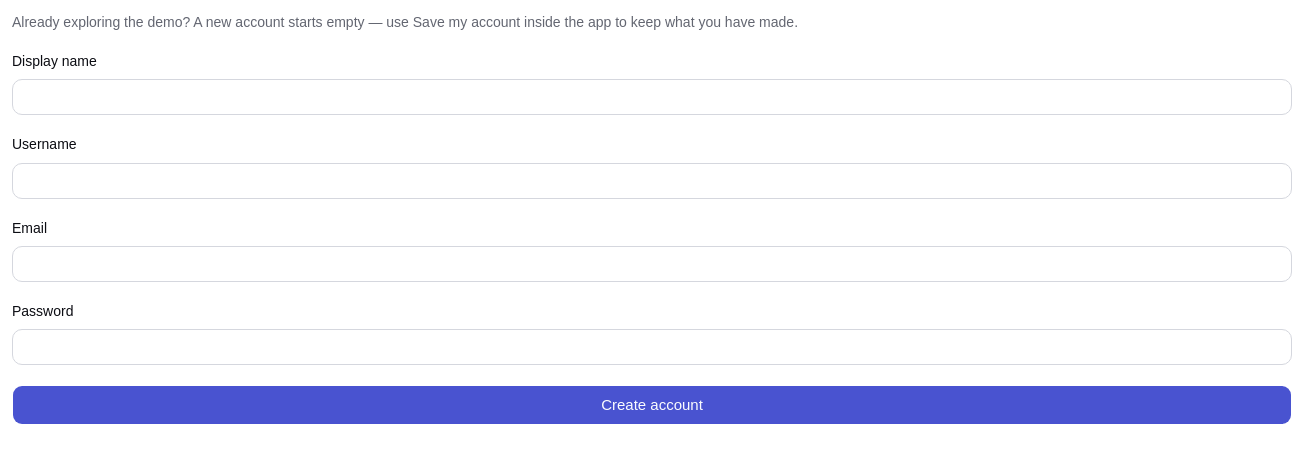
Test: SignUpForm › rejects a reserved username with the shared schema's message
Type "Ada" into the field labelled "Display name" at [652, 97], box x1=12 y1=79 x2=1292 y2=115
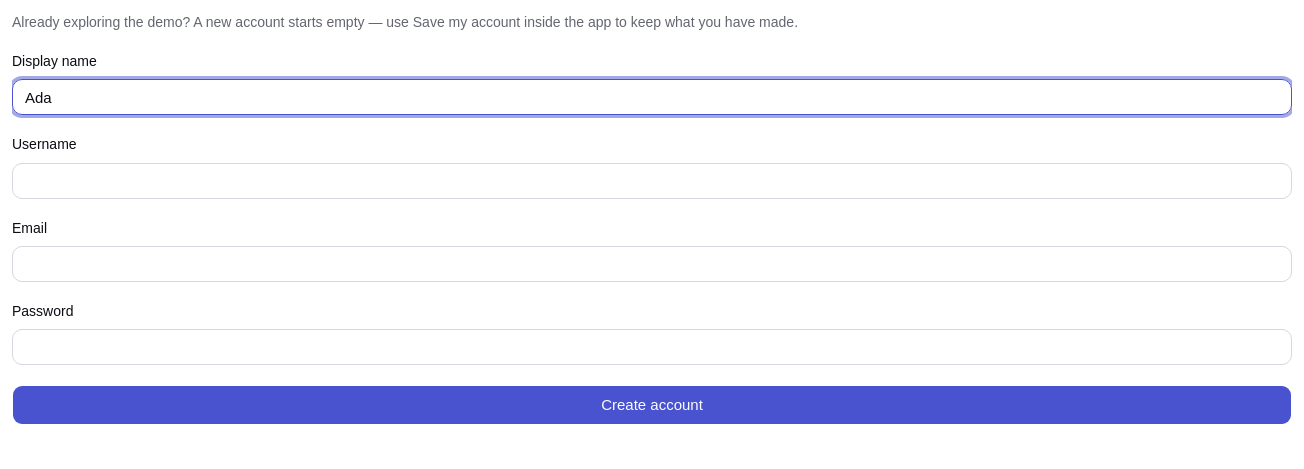
Type "guest-1234" into the field labelled "Username" at [652, 180], box x1=12 y1=162 x2=1292 y2=198
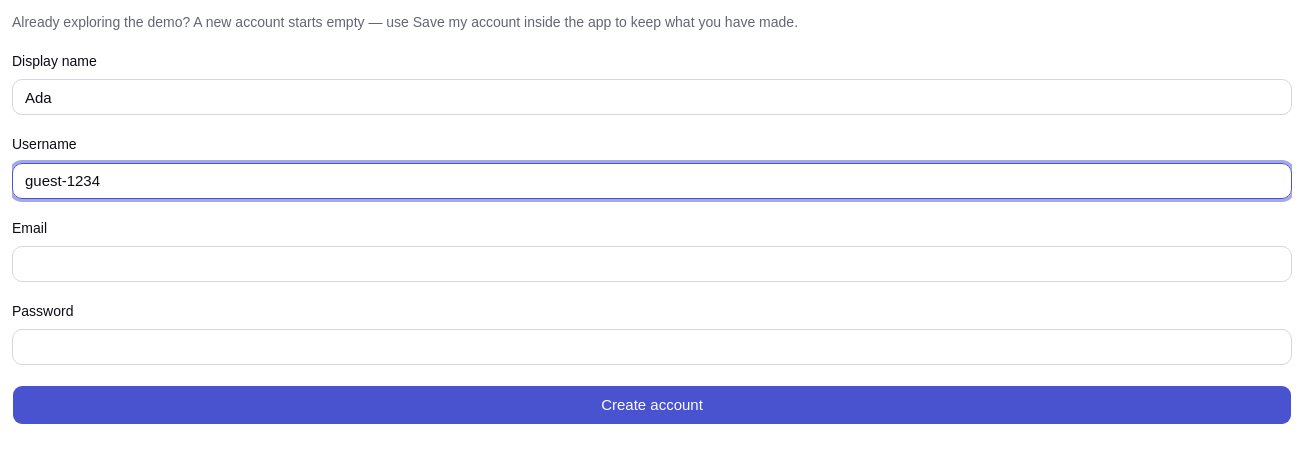
Type "ada@example.com" into the field labelled "Email" at [652, 264], box x1=12 y1=246 x2=1292 y2=282
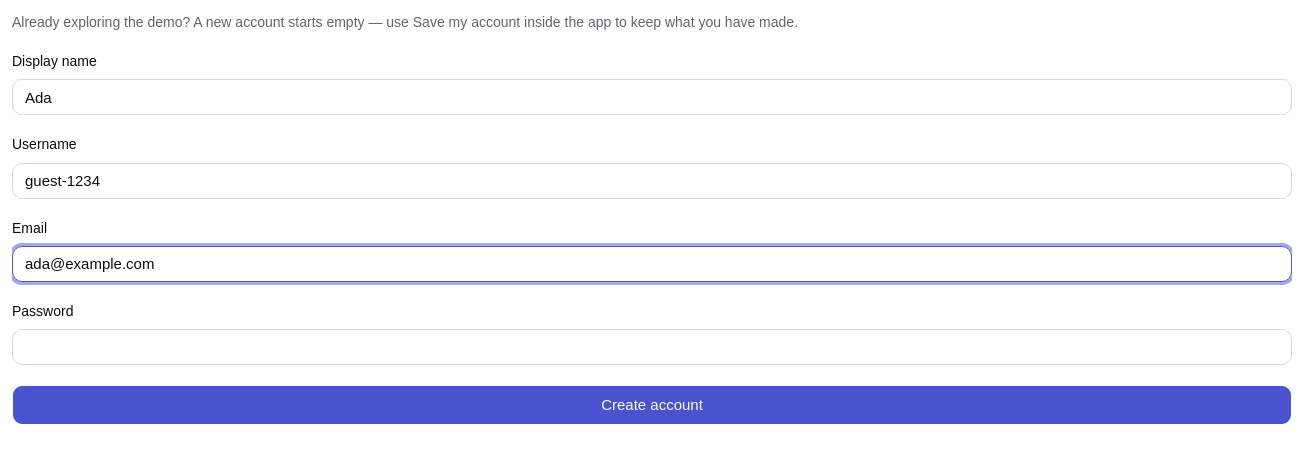
Type "correct horse battery" into the password field labelled "Password" at [652, 347], box x1=12 y1=329 x2=1292 y2=365
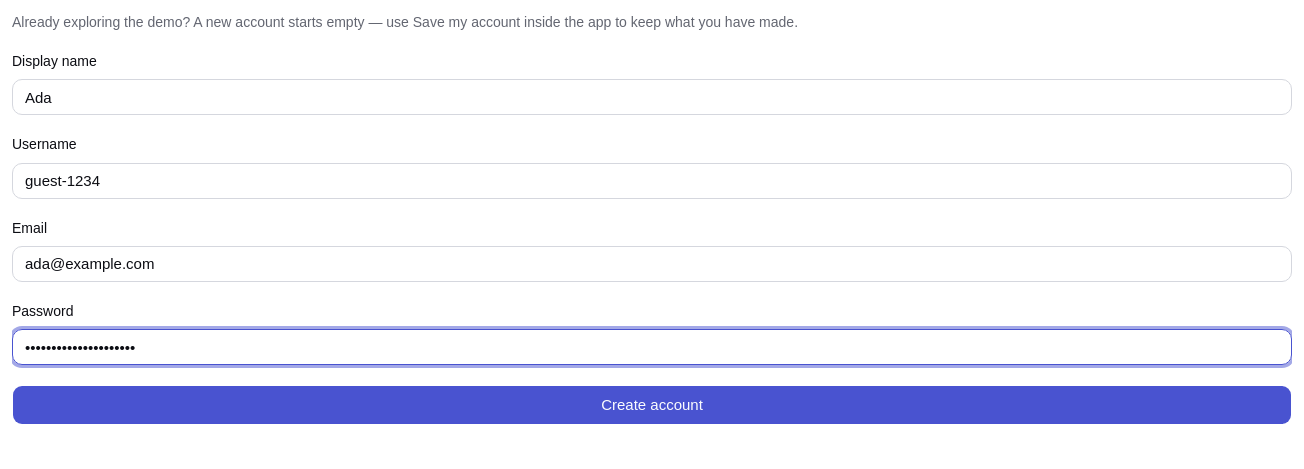
Click the button "Create account" at [652, 405], box x1=12 y1=385 x2=1292 y2=425
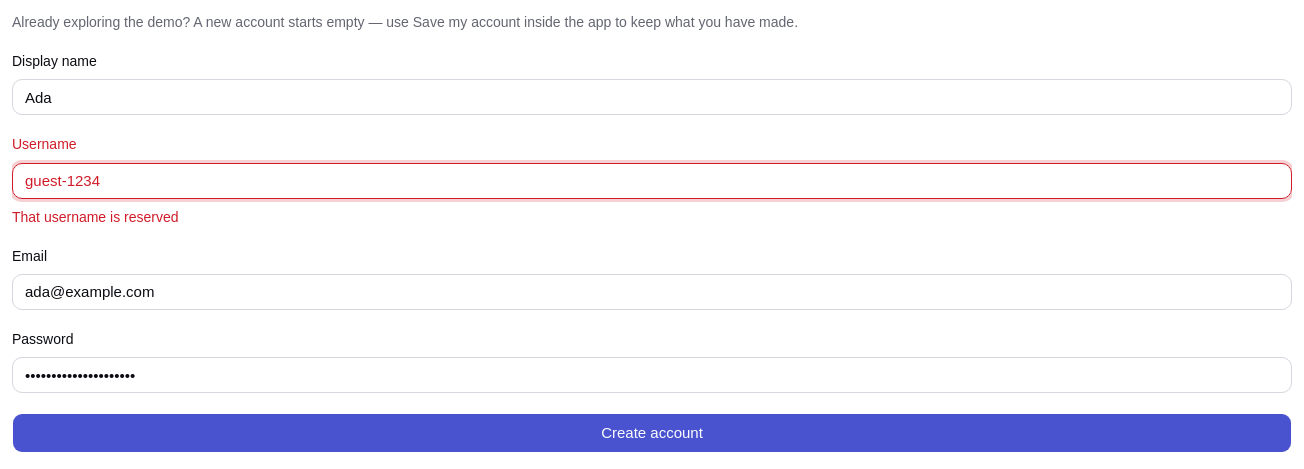
Expected: the text "That username is reserved" is shown, x1=12 y1=208 x2=178 y2=224
